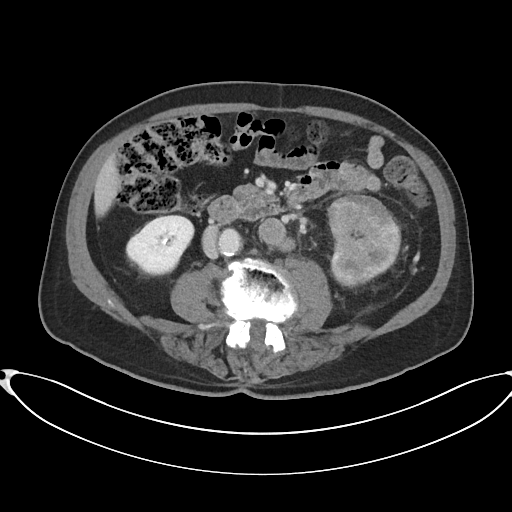Lesion: (327, 190, 401, 288)
